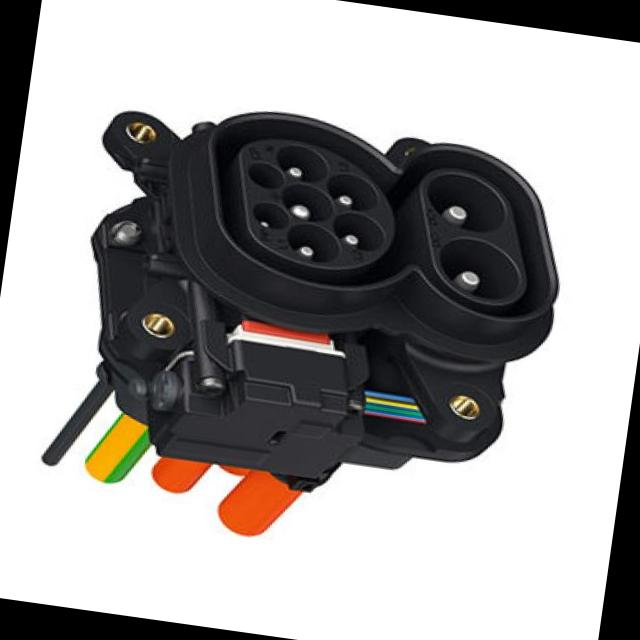inlet: (239, 138, 395, 267)
inlet-above-left: (252, 201, 290, 228)
inlet-above-right: (246, 162, 283, 188)
inlet-below-left: (334, 211, 386, 250)
inlet-below-right: (326, 172, 378, 209)
inlet-center: (281, 185, 334, 223)
inlet-center-left: (286, 224, 341, 262)
inlet-center-right: (277, 145, 327, 182)
